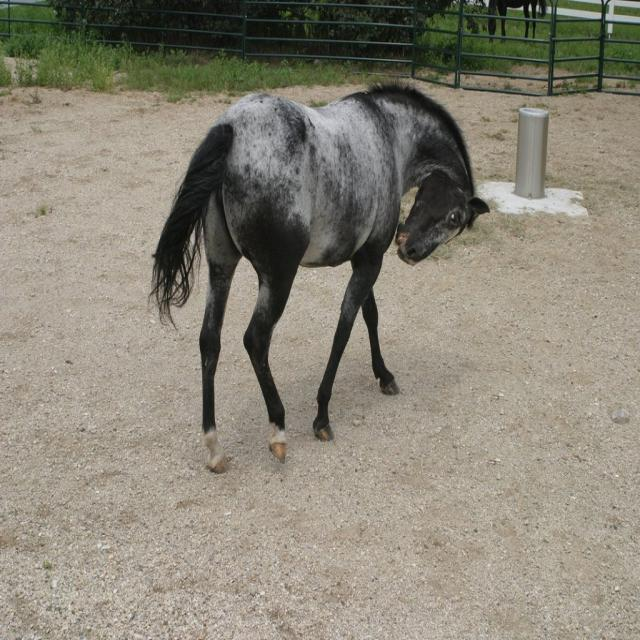Horse: (151, 77, 491, 475)
